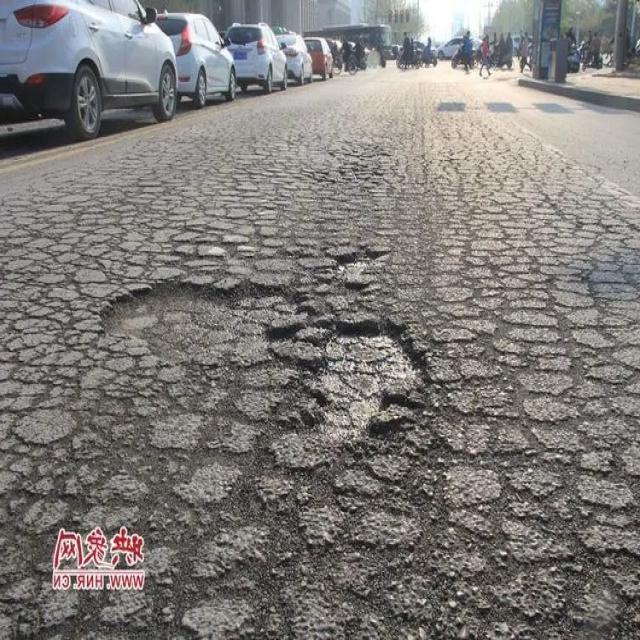pothole: (98, 278, 298, 378), (313, 317, 426, 447), (332, 245, 391, 276)
